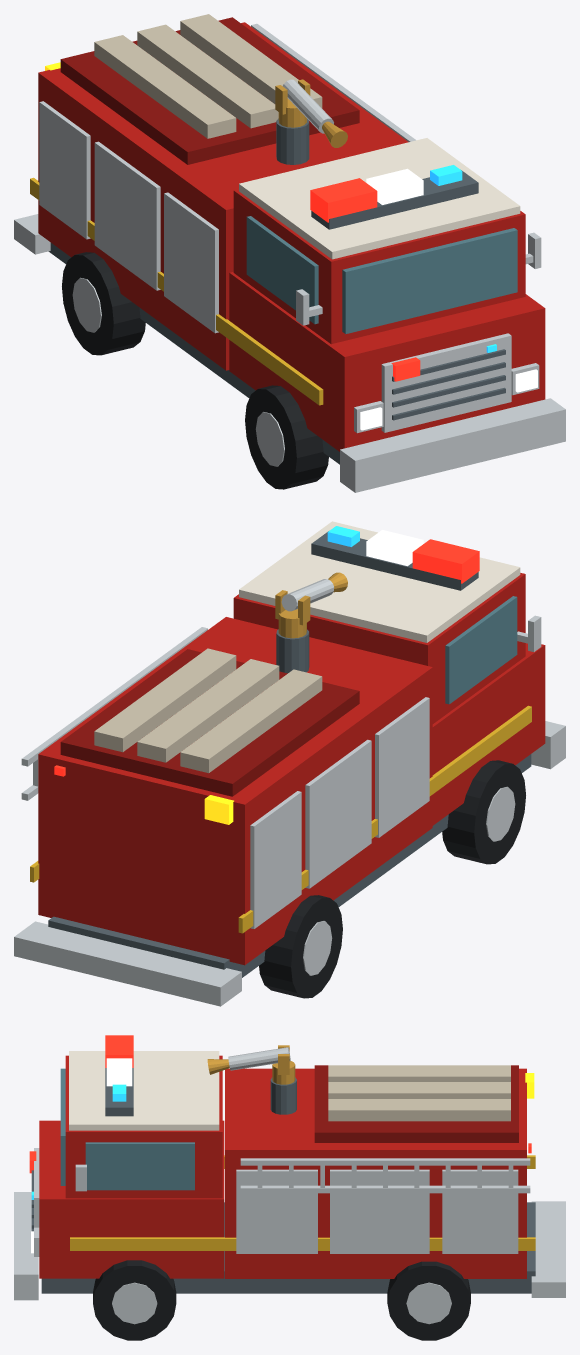
Rendered from fire_truck.glb.
3 views of the same model, one above another, from view 1: azimuth 30°, elevation 25°; view 2: azimuth 150°, elevation 25°; view 3: azimuth 270°, elevation 25° (orthographic). The views are drawn at different scales.
Visible parts, largest first — view 1: PumperBody, CabLower, CabRoof, Windshield, FrontBumper, HoseBed, CabUpper, LockerDoor.001, GrilleFrame, LockerDoor, LockerDoor.002, FoldedHose (+19 smaller); view 2: PumperBody, CabRoof, HoseBed, CabLower, RearStep, CabUpper, LockerDoor.001, LockerDoor, LockerDoor.002, FoldedHose, FoldedHose.001, FoldedHose.002 (+16 smaller); view 3: PumperBody, CabLower, CabRoof, LockerDoor.004, LockerDoor.003, CabUpper, LockerDoor.005, HoseBed, ChassisFrame, CabWindow.001, FoldedHose.002, WheelFRTire (+17 smaller).
Boxes of the visible parts, x1,y1,x2,y2 form: PumperBody: [38, 22, 408, 370]; CabLower: [229, 272, 545, 451]; CabRoof: [239, 138, 520, 259]; Windshield: [342, 228, 517, 333]; FrontBumper: [340, 398, 565, 492]; HoseBed: [60, 17, 359, 164]; CabUpper: [233, 189, 525, 344]; LockerDoor.001: [94, 141, 160, 290]; GrilleFrame: [381, 333, 511, 432]; LockerDoor: [164, 192, 218, 333]; LockerDoor.002: [39, 101, 90, 239]; FoldedHose: [94, 35, 236, 138]; PumperBody: [38, 617, 432, 965]; CabRoof: [239, 521, 520, 642]; HoseBed: [60, 649, 359, 796]; CabLower: [432, 643, 545, 825]; RearStep: [14, 921, 241, 1006]; CabUpper: [233, 573, 525, 723]; LockerDoor.001: [305, 739, 371, 888]; LockerDoor: [375, 697, 429, 837]; LockerDoor.002: [250, 791, 301, 928]; FoldedHose: [180, 669, 322, 773]; FoldedHose.001: [137, 659, 279, 762]; FoldedHose.002: [94, 648, 236, 752]; PumperBody: [225, 1068, 526, 1278]; CabLower: [39, 1120, 224, 1278]; CabRoof: [69, 1051, 219, 1130]; LockerDoor.004: [330, 1169, 429, 1253]; LockerDoor.003: [236, 1169, 317, 1253]; CabUpper: [65, 1055, 222, 1198]; LockerDoor.005: [442, 1169, 518, 1253]; HoseBed: [314, 1065, 518, 1142]; ChassisFrame: [41, 1202, 535, 1293]; CabWindow.001: [85, 1142, 194, 1190]; FoldedHose.002: [328, 1099, 510, 1121]; WheelFRTire: [93, 1260, 176, 1340].
Size of the model in its own units: 2.33 by 2.88 by 5.81.
